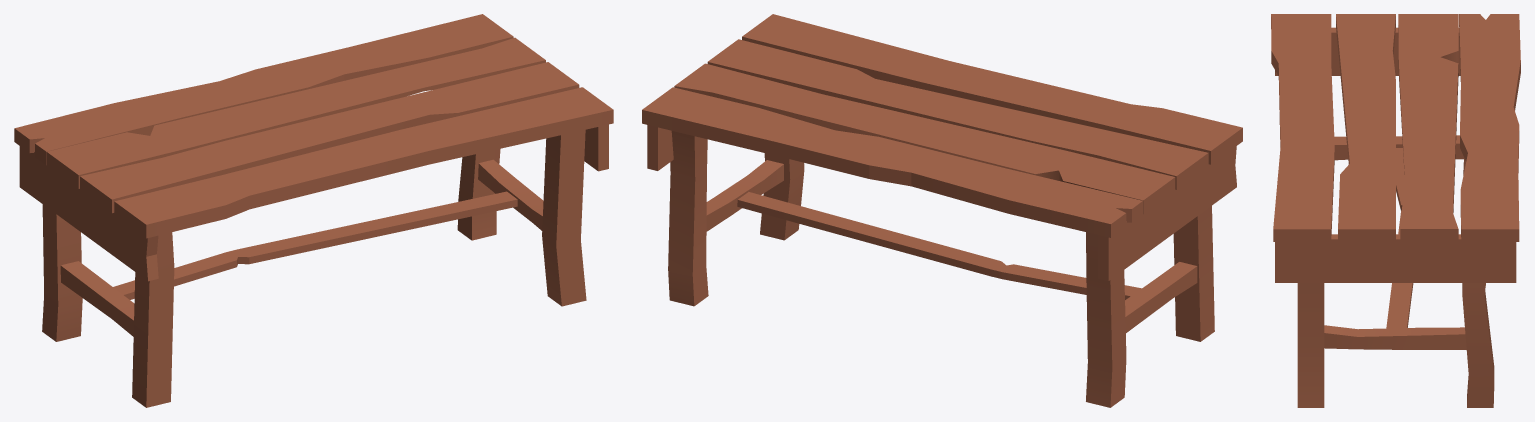
File: MesaComum.fbx
3 renders of one model, left to right at view 1: azimuth 30°, elevation 25°; view 2: azimuth 150°, elevation 25°; view 3: azimuth 270°, elevation 25°, orthographic. The views are drawn at different scales.
Parts seen in each view (by area): view 1: Mesa.Comum; view 2: Mesa.Comum; view 3: Mesa.Comum.
Part boxes in pixels (left/top/right/bottom): Mesa.Comum: left=14, top=14, right=613, bottom=407; Mesa.Comum: left=642, top=14, right=1242, bottom=407; Mesa.Comum: left=1271, top=14, right=1520, bottom=407.
Bounding box in the file's own units: 219 × 87.8 × 107.
